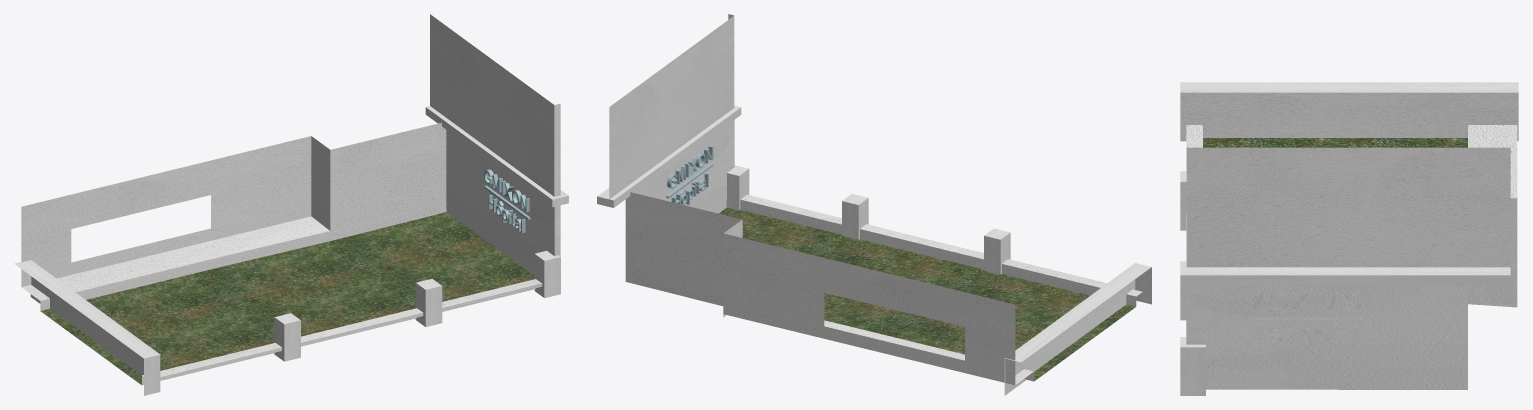
The model's file is Exteriors.FBX.
The picture shows the model from 3 angles, left to right: view 1: azimuth 30°, elevation 25°; view 2: azimuth 150°, elevation 25°; view 3: azimuth 270°, elevation 25°; orthographic projection. The views are drawn at different scales.
Parts seen in each view (by area): view 1: externFace, Exter_ground, exter_Wall_sep005, exter_Wall_sep003, exter_Wall_sep004, GMHopital, exter_Wall_sep, exter_Wall_sep002, exter_Wall_sep001; view 2: externFace, Exter_ground, exter_Wall_sep005, exter_Wall_sep003, exter_Wall_sep004, GMHopital, exter_Wall_sep002, exter_Wall_sep, exter_Wall_sep001; view 3: exter_Wall_sep005, externFace, exter_Wall_sep003, exter_Wall_sep004, Exter_ground, exter_Wall_sep001, GMHopital, exter_Wall_sep002.
Boxes of the visible parts, x1,y1,x2,y2 form: externFace: (21,122,560,385); Exter_ground: (40,212,534,385); exter_Wall_sep005: (430,14,560,196); exter_Wall_sep003: (14,260,160,395); exter_Wall_sep004: (425,106,568,207); GMHopital: (484,169,530,232); exter_Wall_sep: (415,278,442,326); exter_Wall_sep002: (274,313,300,361); exter_Wall_sep001: (534,250,560,298); externFace: (625,120,1142,385); Exter_ground: (719,207,1135,380); exter_Wall_sep005: (609,14,734,198); exter_Wall_sep003: (1004,263,1151,395); exter_Wall_sep004: (597,105,741,207); GMHopital: (666,146,713,204); exter_Wall_sep002: (984,228,1010,274); exter_Wall_sep: (842,194,868,239); exter_Wall_sep001: (726,165,749,210); exter_Wall_sep005: (1186,147,1510,267); externFace: (1186,125,1517,389); exter_Wall_sep003: (1180,82,1518,141); exter_Wall_sep004: (1180,264,1510,284); Exter_ground: (1203,138,1467,147); exter_Wall_sep001: (1180,337,1205,395); GMHopital: (1248,292,1362,341); exter_Wall_sep002: (1180,171,1186,230).
Bounding box in the file's own units: 2213 × 938 × 1171.
3 materials, 3 textured.
